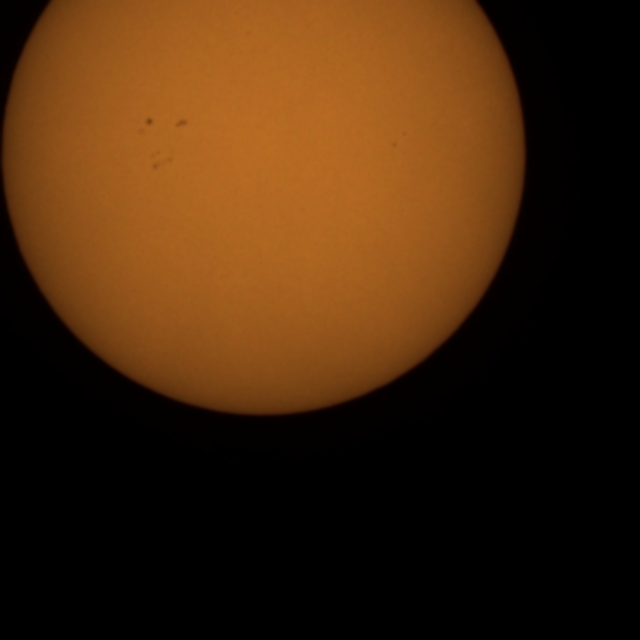sunspot: (149, 149, 175, 173), (138, 115, 154, 136), (390, 131, 407, 150), (173, 117, 190, 130), (144, 116, 154, 128), (390, 140, 398, 150), (401, 131, 408, 138)
